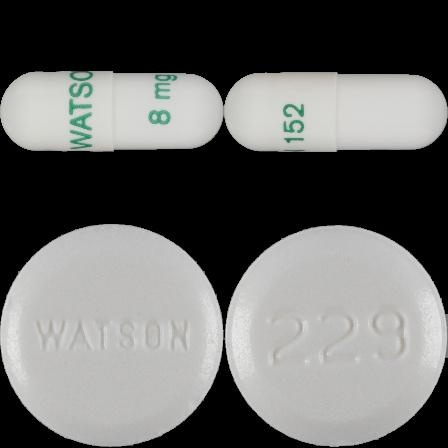52544-152: (0, 0, 224, 224)
